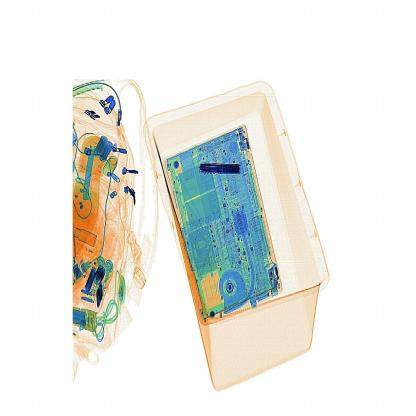scissors: (193, 146, 246, 189)
